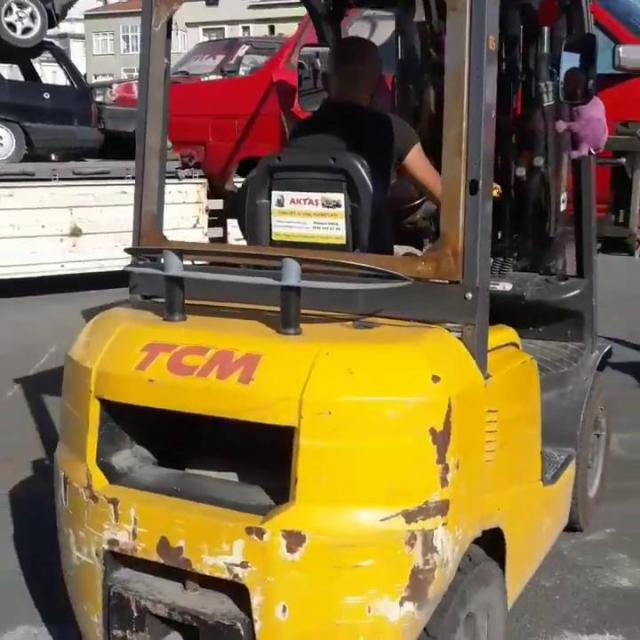forklift: (60, 239, 620, 640)
person: (251, 24, 453, 263)
